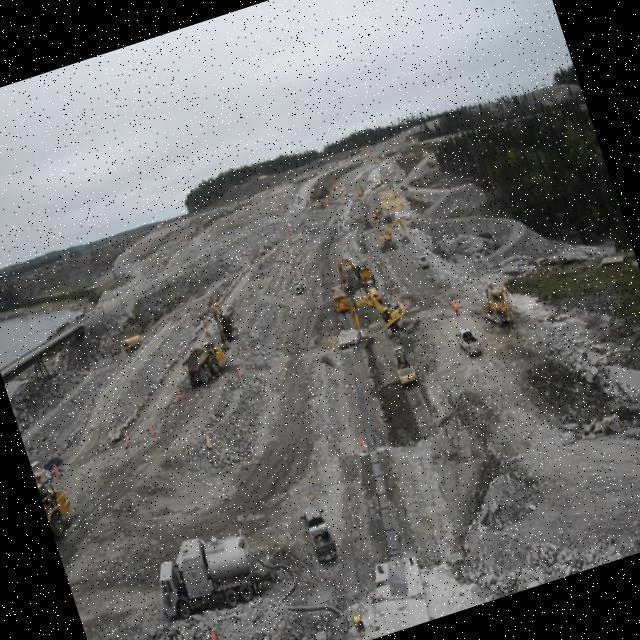Dump Truck: (139, 516, 266, 624), (36, 470, 85, 542), (294, 498, 342, 567), (174, 336, 231, 391), (354, 260, 384, 304), (323, 278, 351, 314), (118, 332, 143, 356), (288, 276, 304, 294)
Excavator: (339, 276, 414, 349), (332, 248, 378, 294), (206, 296, 243, 352), (372, 213, 409, 250), (362, 200, 393, 228)
Roller: (384, 338, 421, 390)
